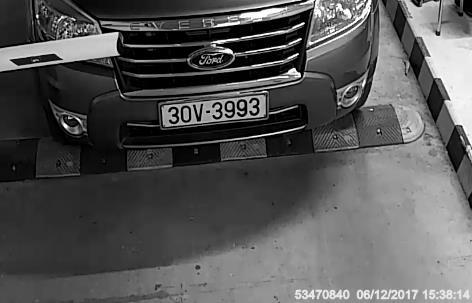License-plate: (145, 88, 274, 140)
